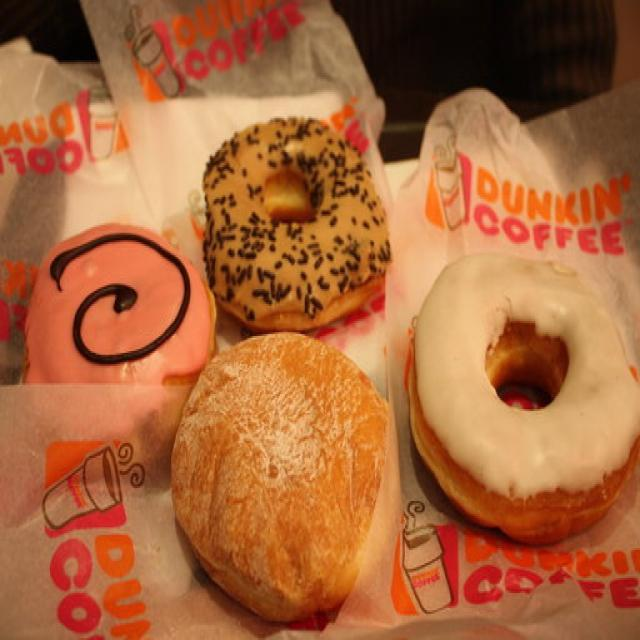Donuts: (27, 110, 640, 640)
